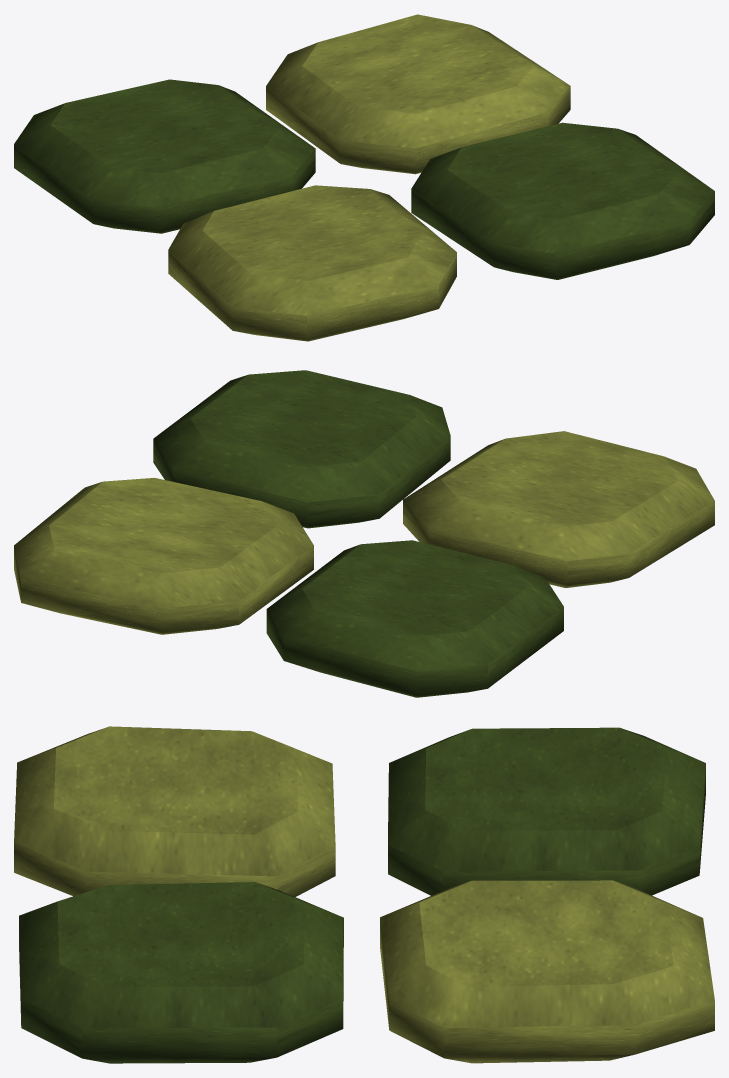
The model's file is stone-floor-3.fbx.
3 renders of one model, top to bottom at view 1: azimuth 30°, elevation 25°; view 2: azimuth 150°, elevation 25°; view 3: azimuth 270°, elevation 25°, orthographic. The views are drawn at different scales.
Visible parts, largest first — view 1: stone-floor-3__Geometry; view 2: stone-floor-3__Geometry; view 3: stone-floor-3__Geometry.
Part boxes in pixels (box(x1,y1,x2,y2)): stone-floor-3__Geometry: box(14, 14, 714, 341); stone-floor-3__Geometry: box(14, 370, 714, 697); stone-floor-3__Geometry: box(14, 726, 714, 1063).
Size of the model in its own units: 0.9571 by 0.12 by 0.9627.
1 material, 1 textured.
